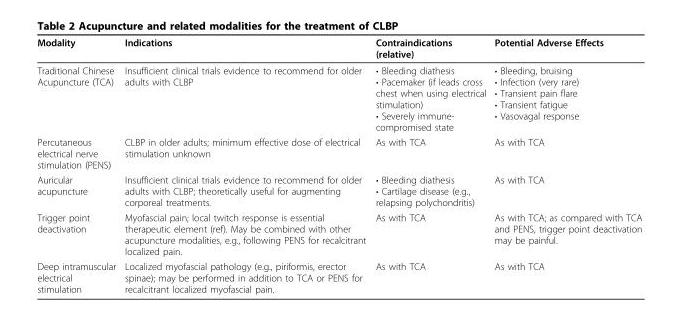table: (36, 36, 641, 294)
table column: (119, 36, 370, 294), (489, 36, 641, 294), (370, 36, 489, 294), (36, 36, 119, 294)
table column header: (36, 36, 641, 61)
table row: (36, 61, 641, 134), (36, 209, 641, 258), (36, 171, 641, 209), (36, 134, 641, 171), (36, 258, 641, 294), (36, 36, 641, 61)
